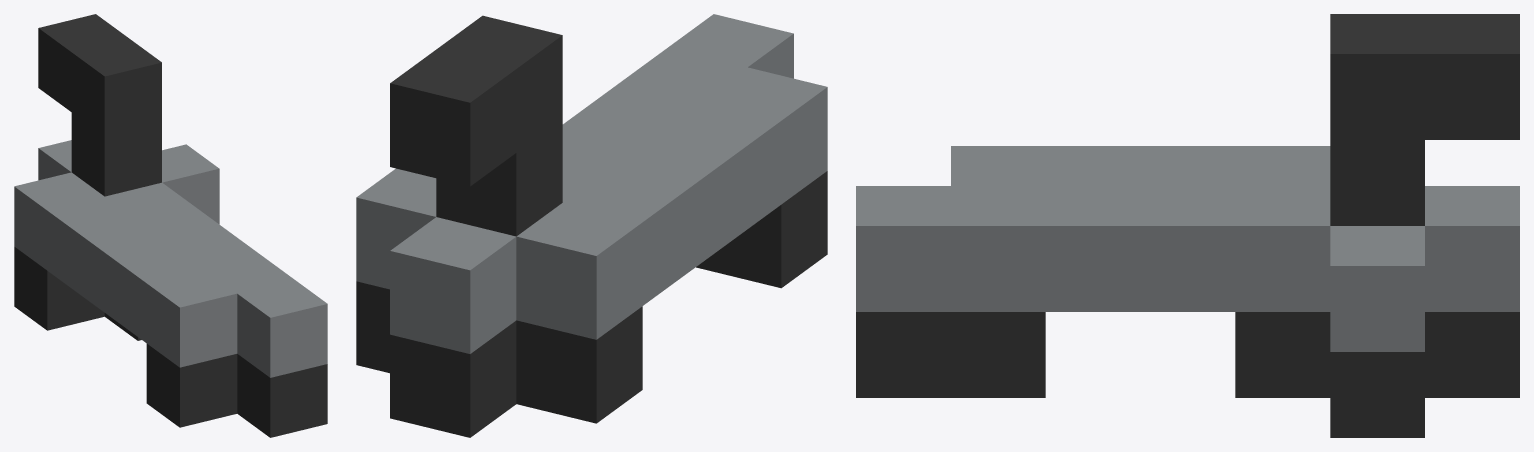
File: Leg-75.obj
3 renders of one model, left to right at view 1: azimuth 30°, elevation 25°; view 2: azimuth 150°, elevation 25°; view 3: azimuth 270°, elevation 25°, orthographic. The views are drawn at different scales.
Size of the model in its own units: 0.3 by 0.4 by 0.7.
1 material, 1 textured.
